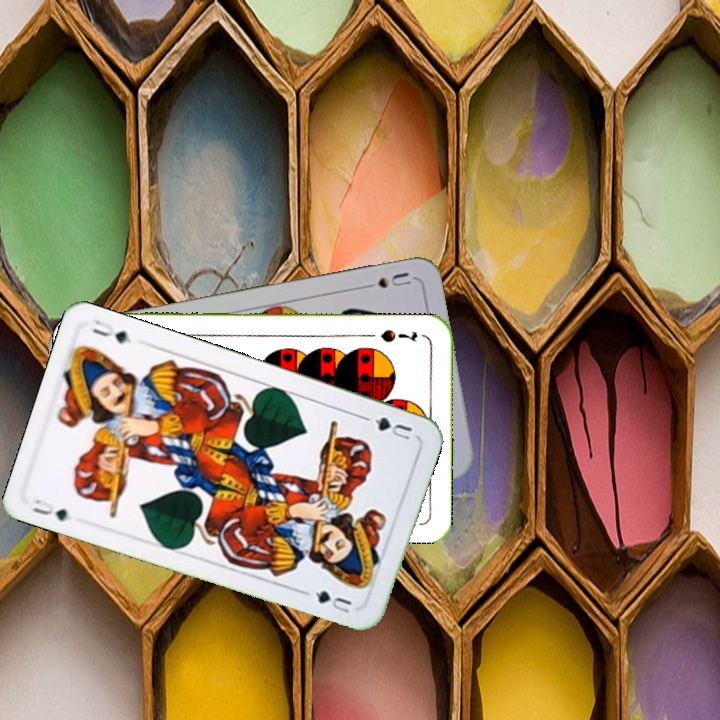GU: (29, 495, 75, 524), (370, 413, 415, 442)
S7: (377, 325, 420, 345)
SU: (356, 268, 414, 292)
